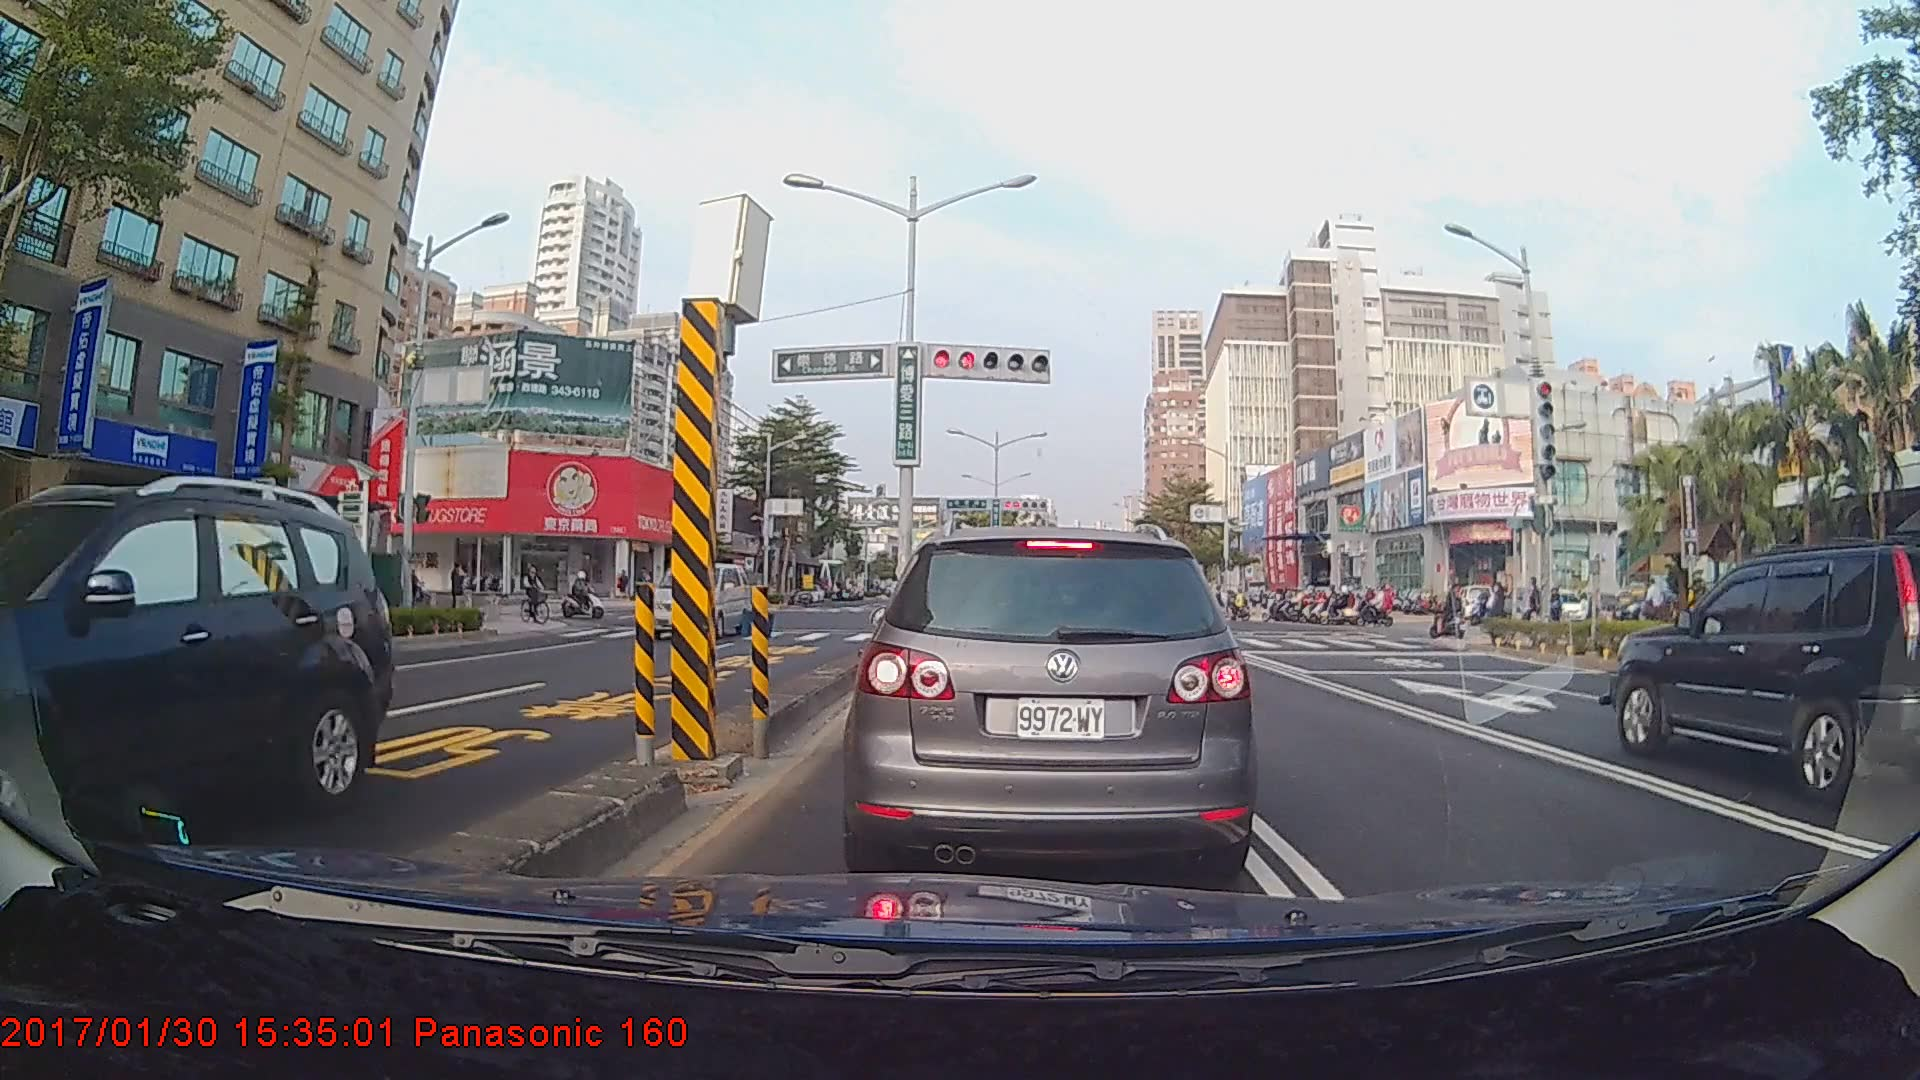pedestrian: (1643, 576, 1665, 635)
rider: (562, 566, 609, 619), (1425, 582, 1465, 637), (522, 566, 551, 627)
vehicle: (838, 517, 1260, 881), (0, 486, 395, 858), (1606, 540, 1920, 807), (642, 561, 750, 639)
